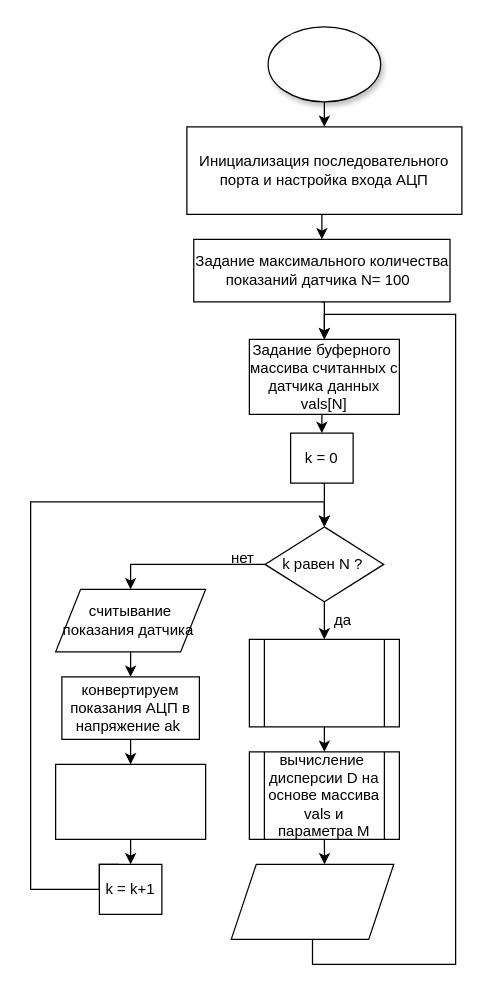
Some shapes in this 488 by 996 pixel diagram are drawn without their labels. Each missing label, with the centre of its shape:
вывод M и D в последовательный порт: pixel 312 901
вычисление математического ожидания M на основе массива vals: pixel 323 682
запись показания ak в бувер vals в ячейку k: pixel 130 801
начало: pixel 325 66
